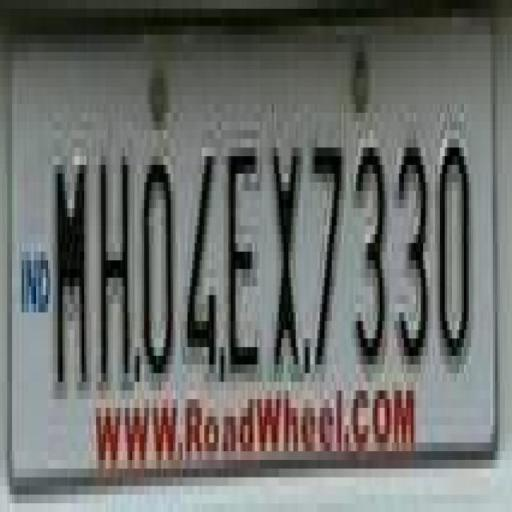number plate: (19, 9, 512, 460)
